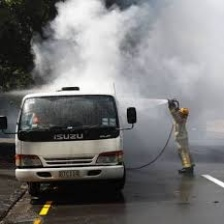smoke: (36, 4, 132, 93)
